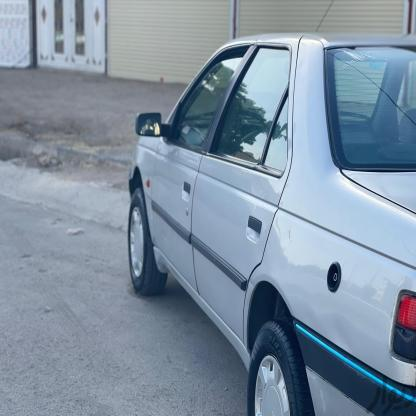Car: (125, 32, 416, 416)
